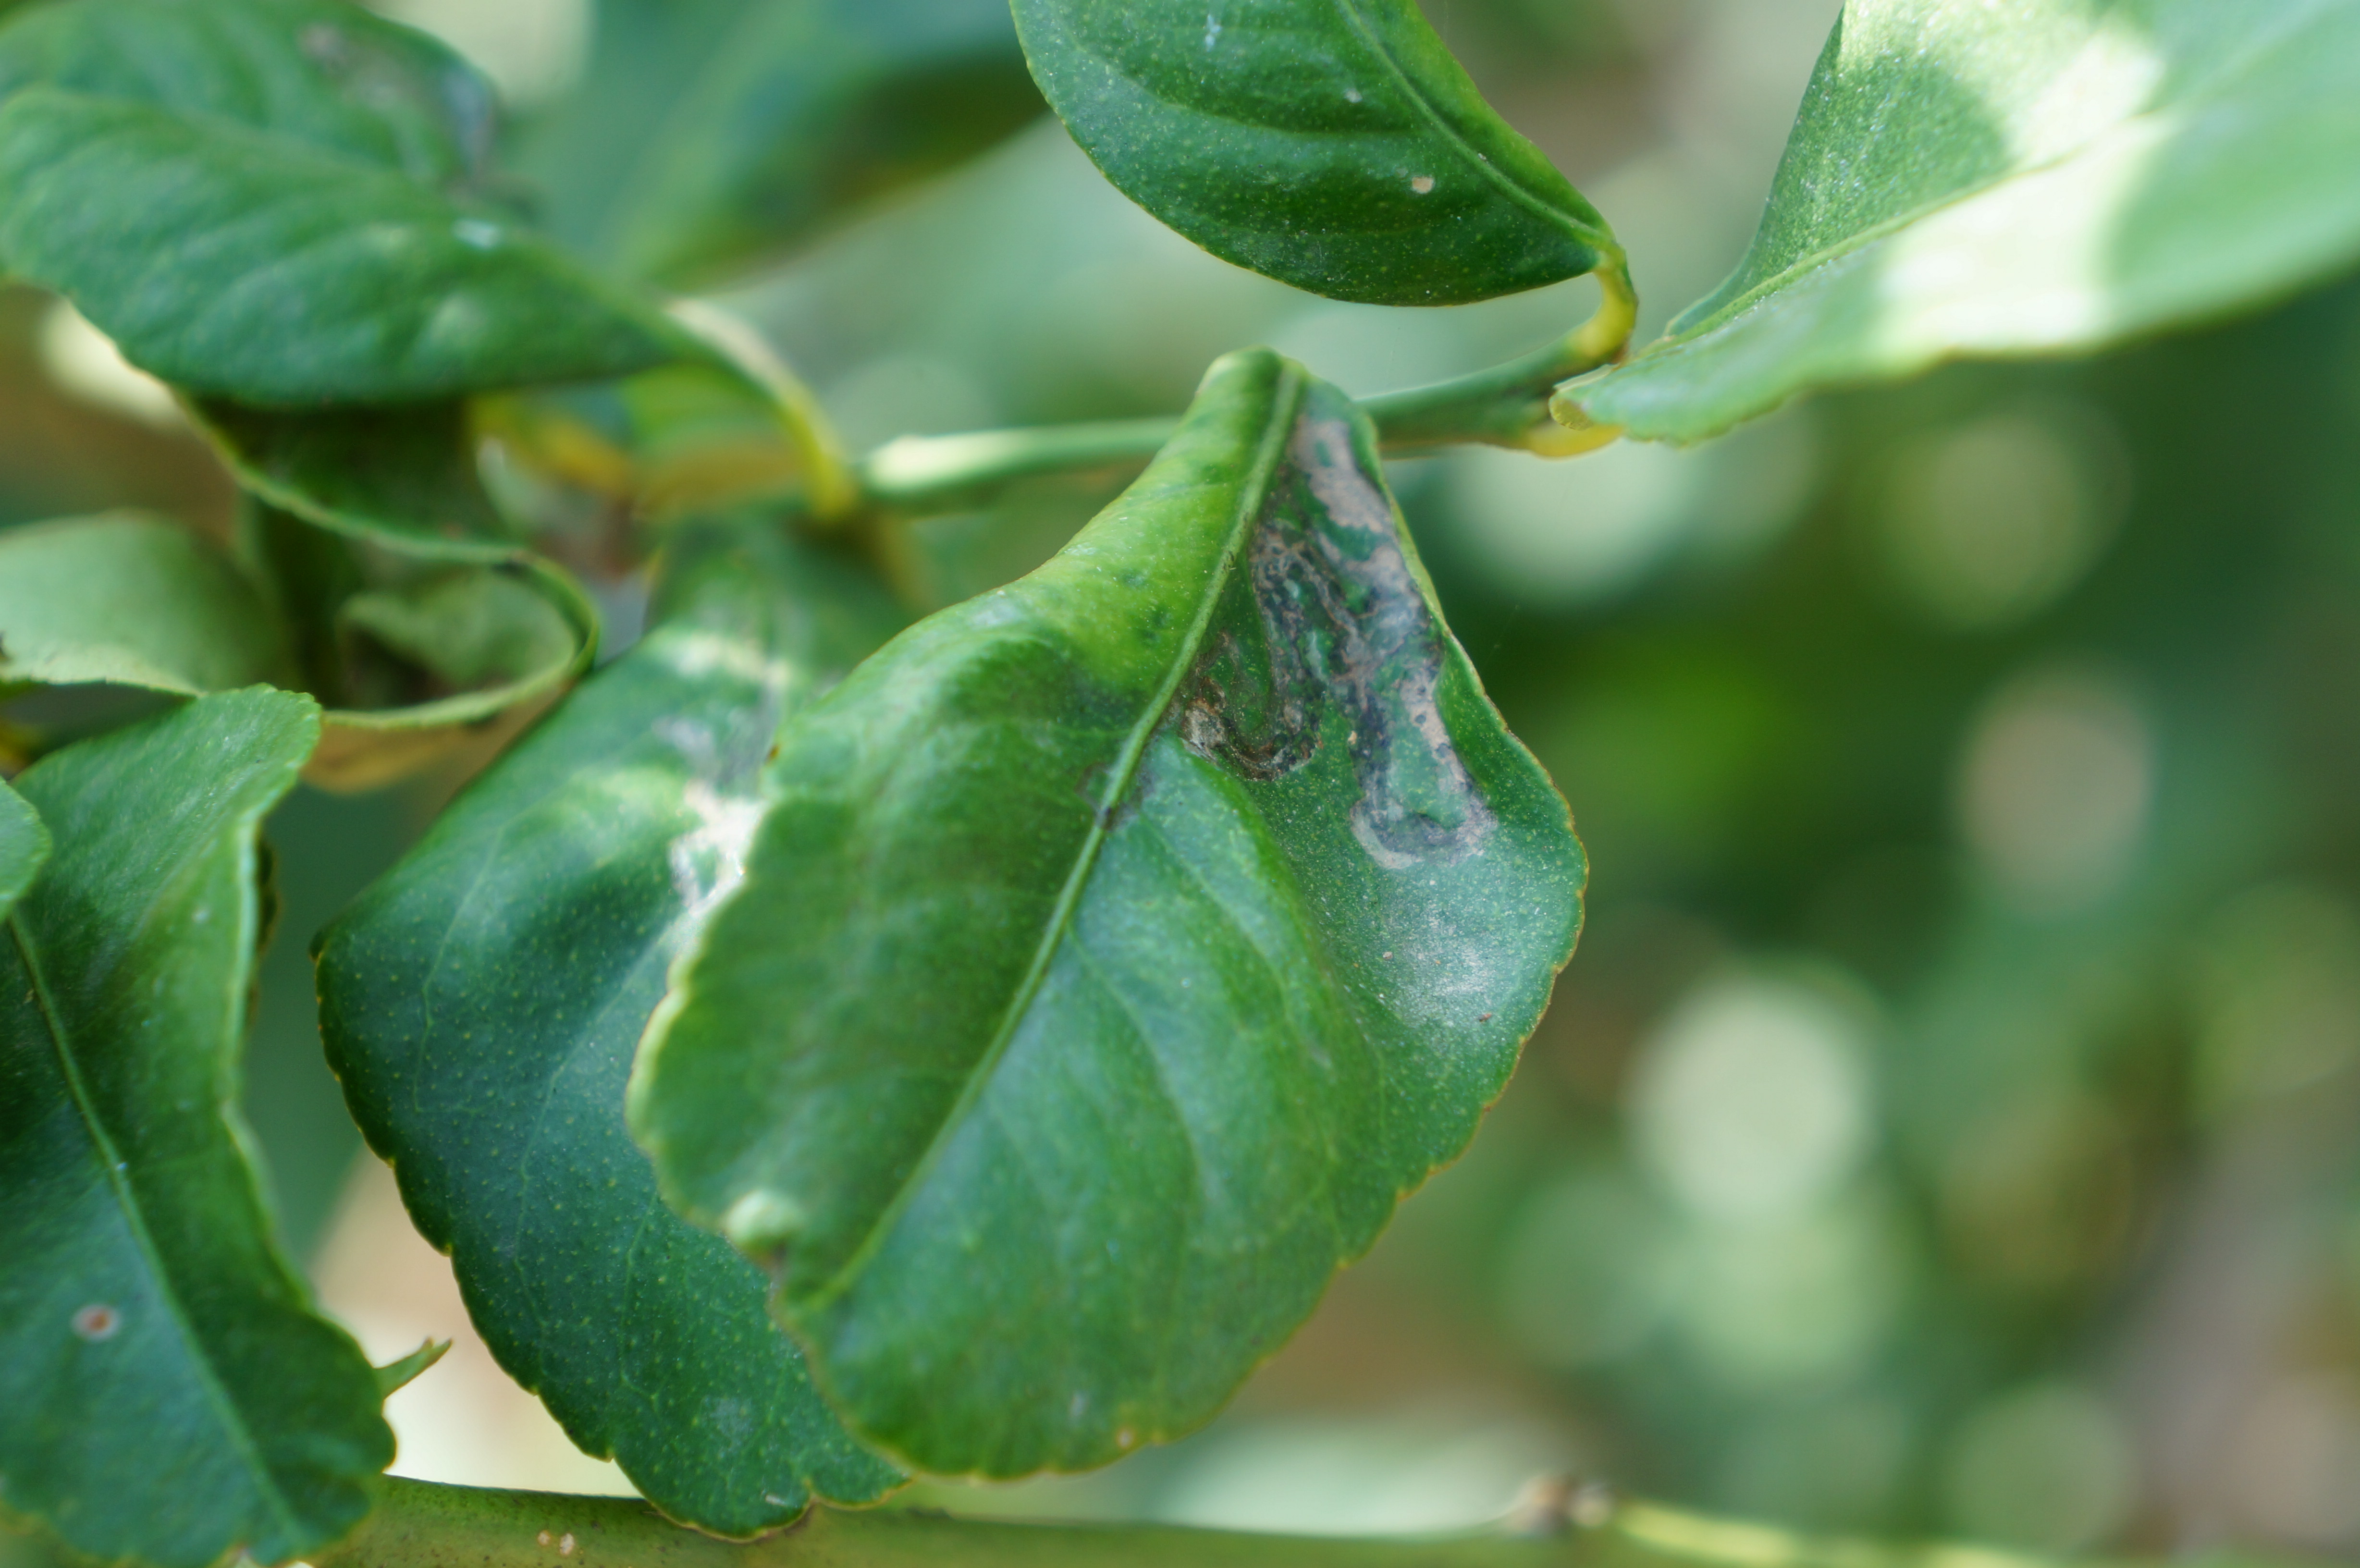damage: (1139, 378, 1545, 898)
